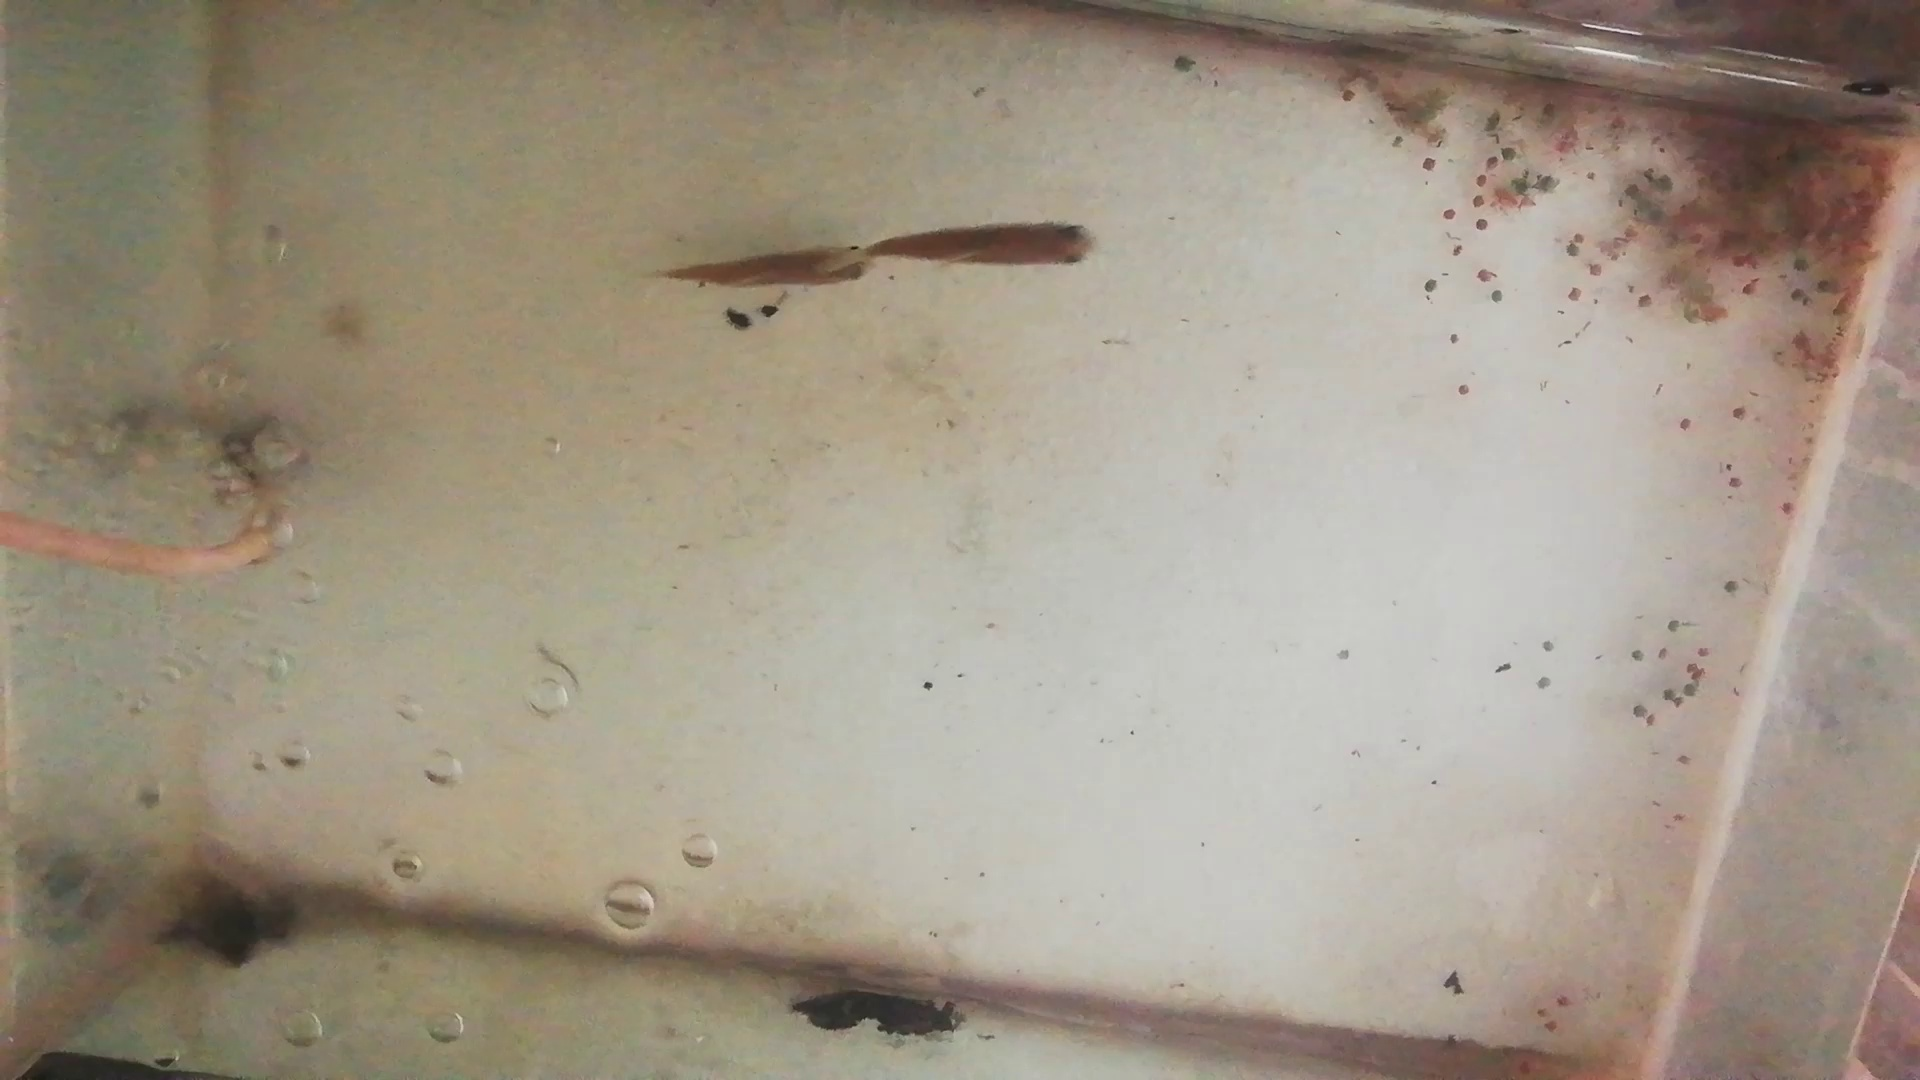fish: (868, 218, 1102, 280), (662, 243, 878, 291)
